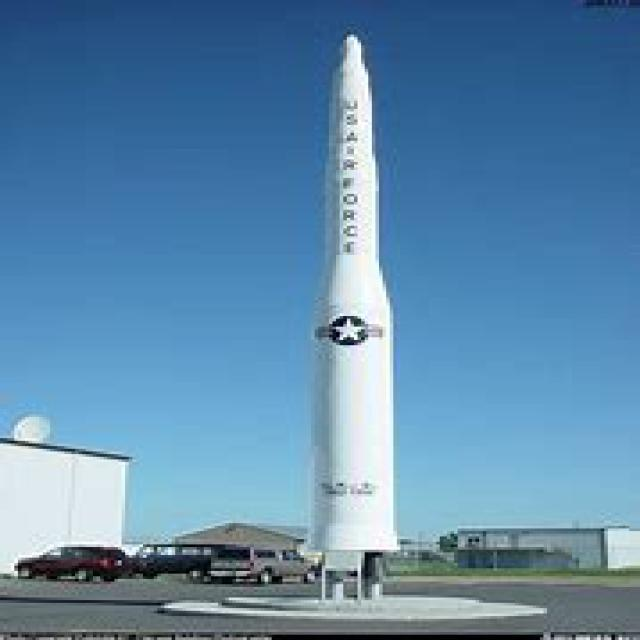missile: (308, 34, 398, 582)
